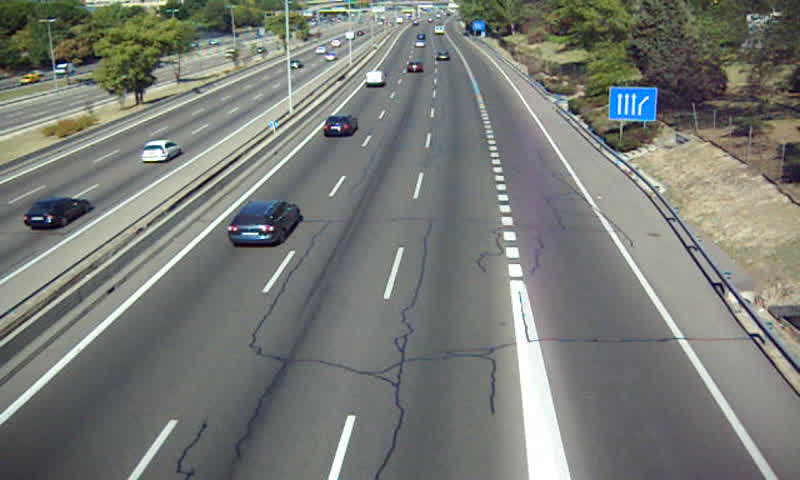car: (226, 201, 300, 247), (323, 116, 357, 137), (406, 61, 423, 75)
van: (366, 71, 384, 88)
